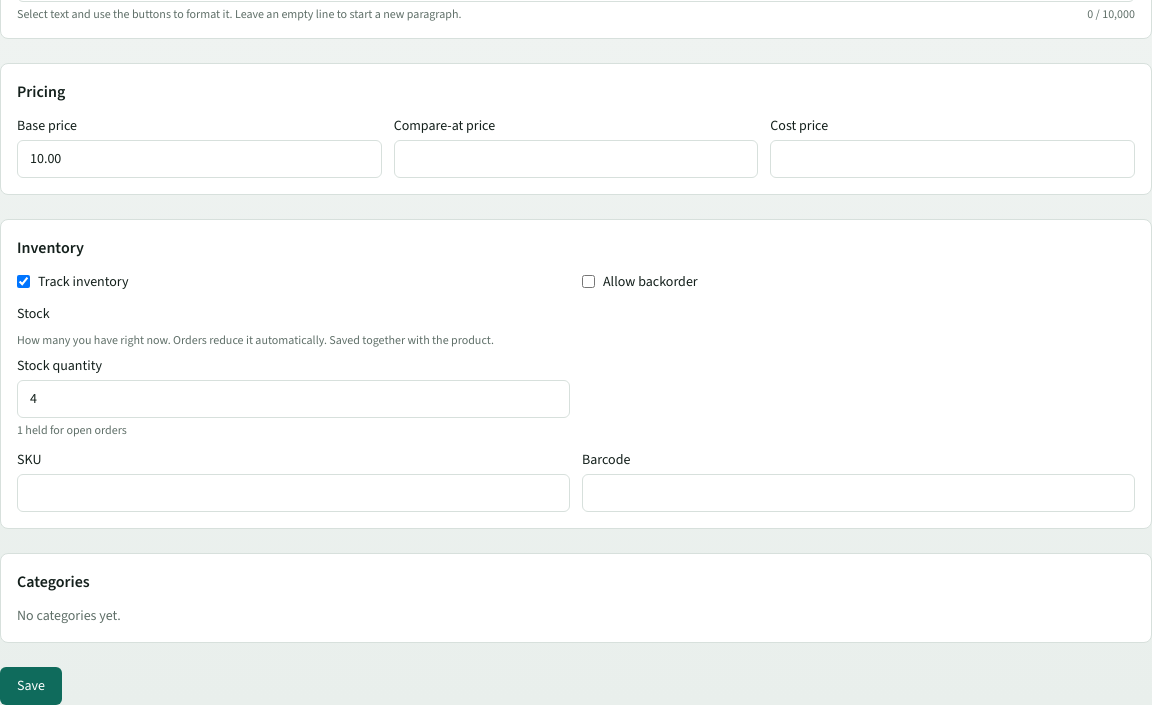
ProductForm stock fields › blocks a stock below what open orders hold
The image size is (1152, 705).
(page scrolled)
Replace the text in the number field labelled "Stock quantity" with "0" at [294, 398], box [17,380,570,418]
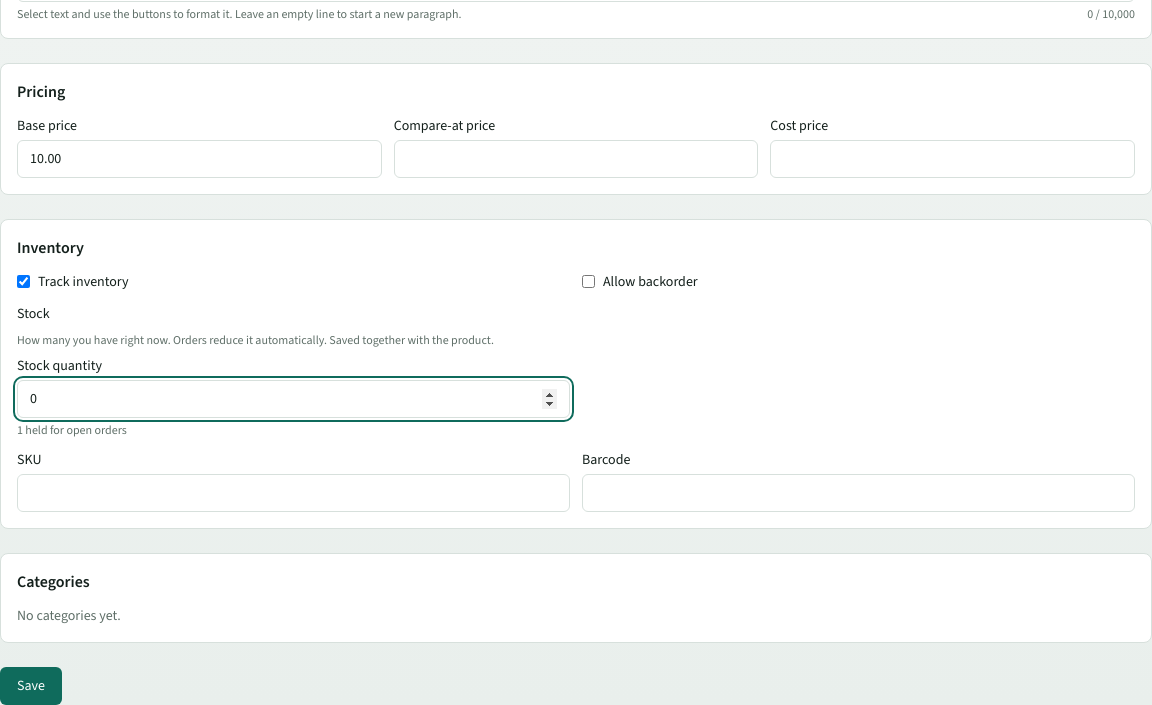
Click the button "Save".
click(31, 686)  # box [0,666,62,704]
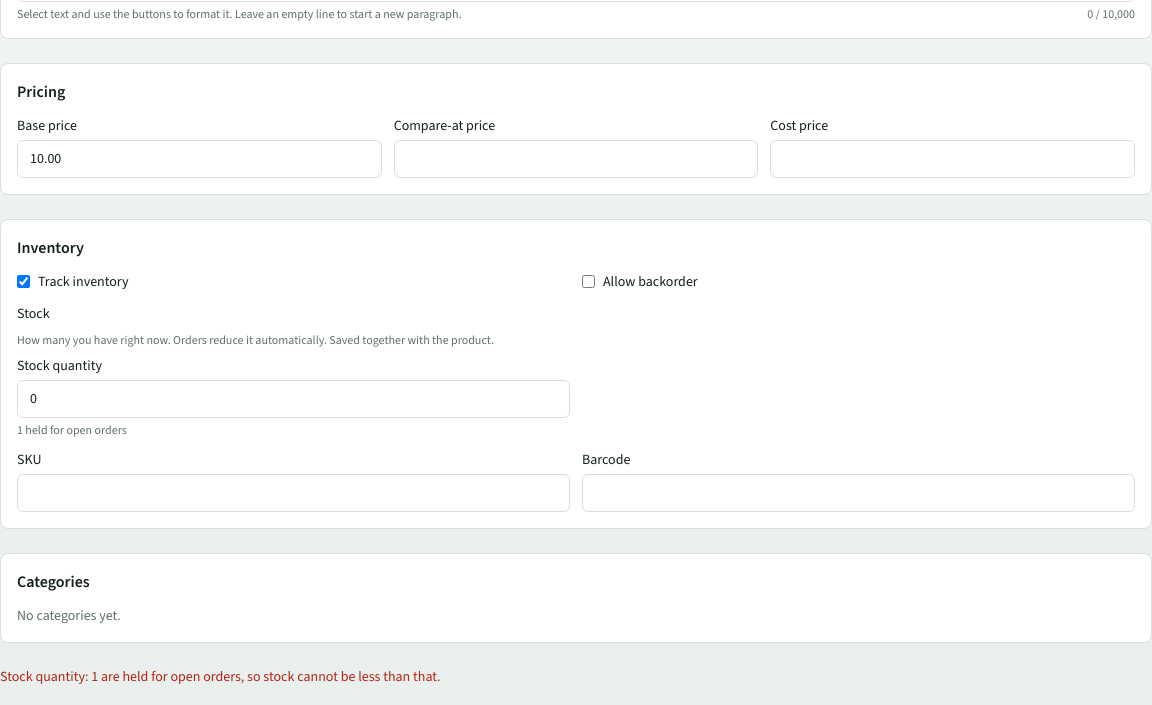
Result: the message shows "held for open orders" at [0,666,441,686]
